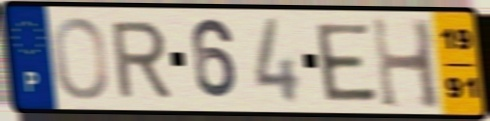4: (250, 15, 305, 107)
6: (189, 16, 240, 105)
E: (312, 21, 381, 104)
H: (368, 13, 446, 112)
O: (50, 14, 111, 103)
R: (107, 18, 174, 101)
